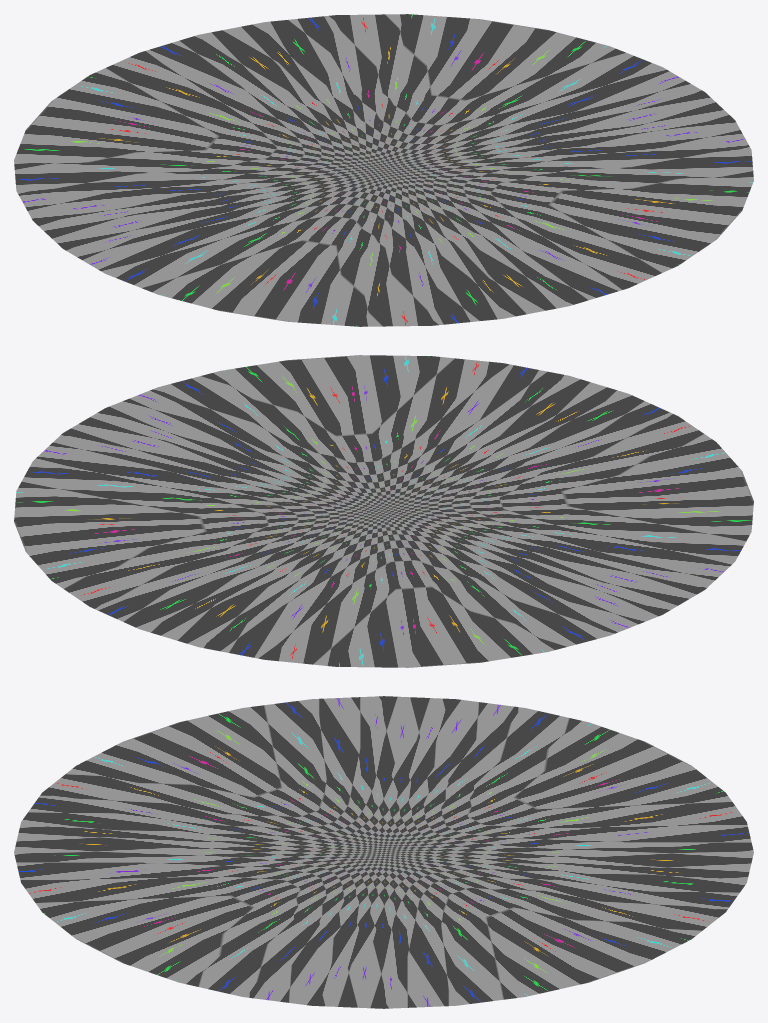
File: videoprojector.glb
3 renders of one model, top to bottom at view 1: azimuth 30°, elevation 25°; view 2: azimuth 150°, elevation 25°; view 3: azimuth 270°, elevation 25°, orthographic.
Visible parts, largest first — view 1: Mapping; view 2: Mapping; view 3: Mapping.
Boxes of the visible parts, <box> form: Mapping: <box>14,14,753,326</box>; Mapping: <box>14,355,753,667</box>; Mapping: <box>14,696,753,1008</box>.
Size of the model in its own units: 21.59 by 0.00308 by 21.59.
Materials: 1 (1 with a texture image).
